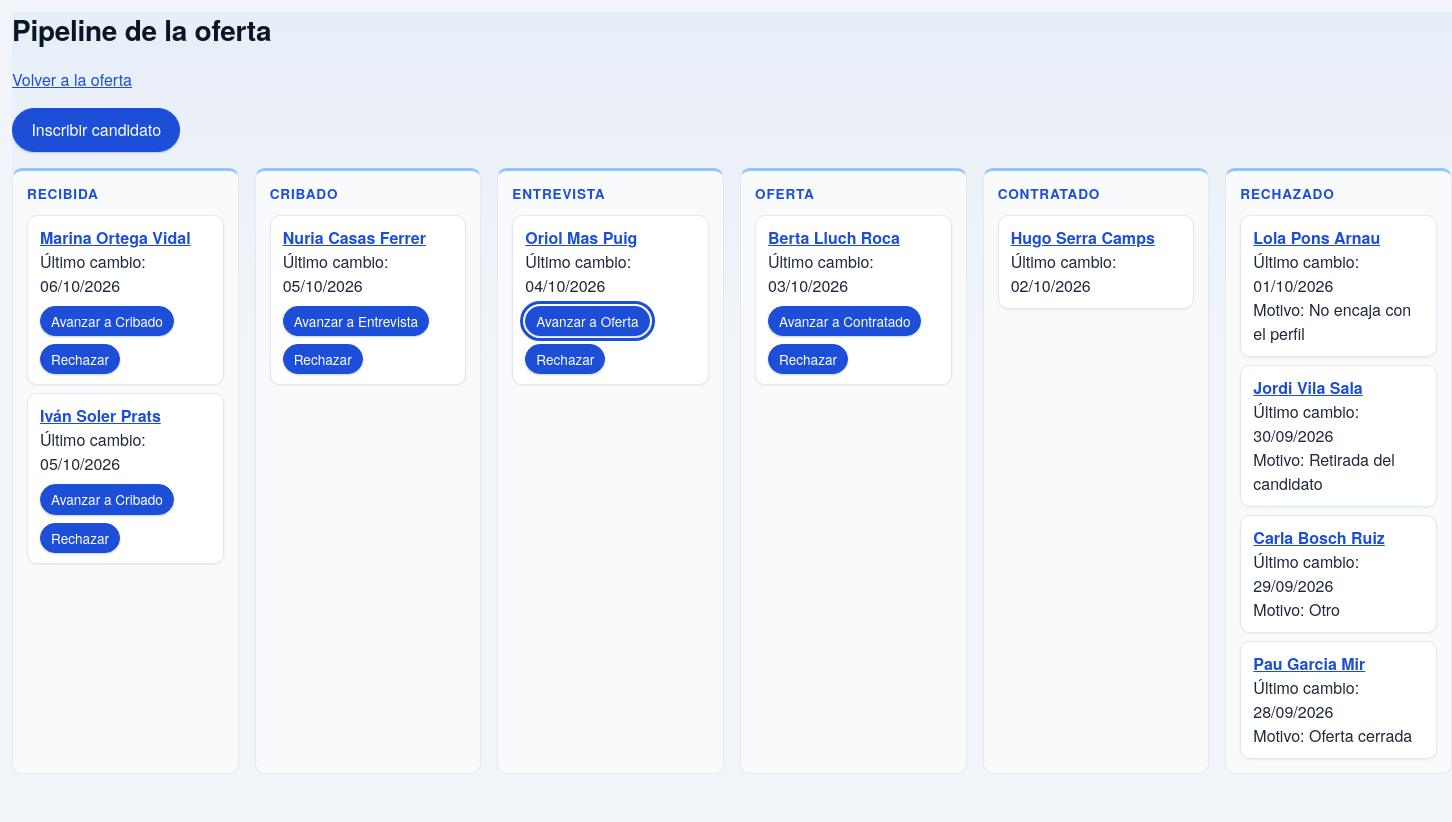
PipelineScreen: avanzar de etapa › EC-33 409 INVALID_TRANSITION → texto de DT-06, foco en la alerta y recarga
This screenshot has width=1452, height=822.
Step 1. Click the button named "Avanzar a Oferta: Oriol Mas Puig" → (587, 321), box [525,306,650,336]
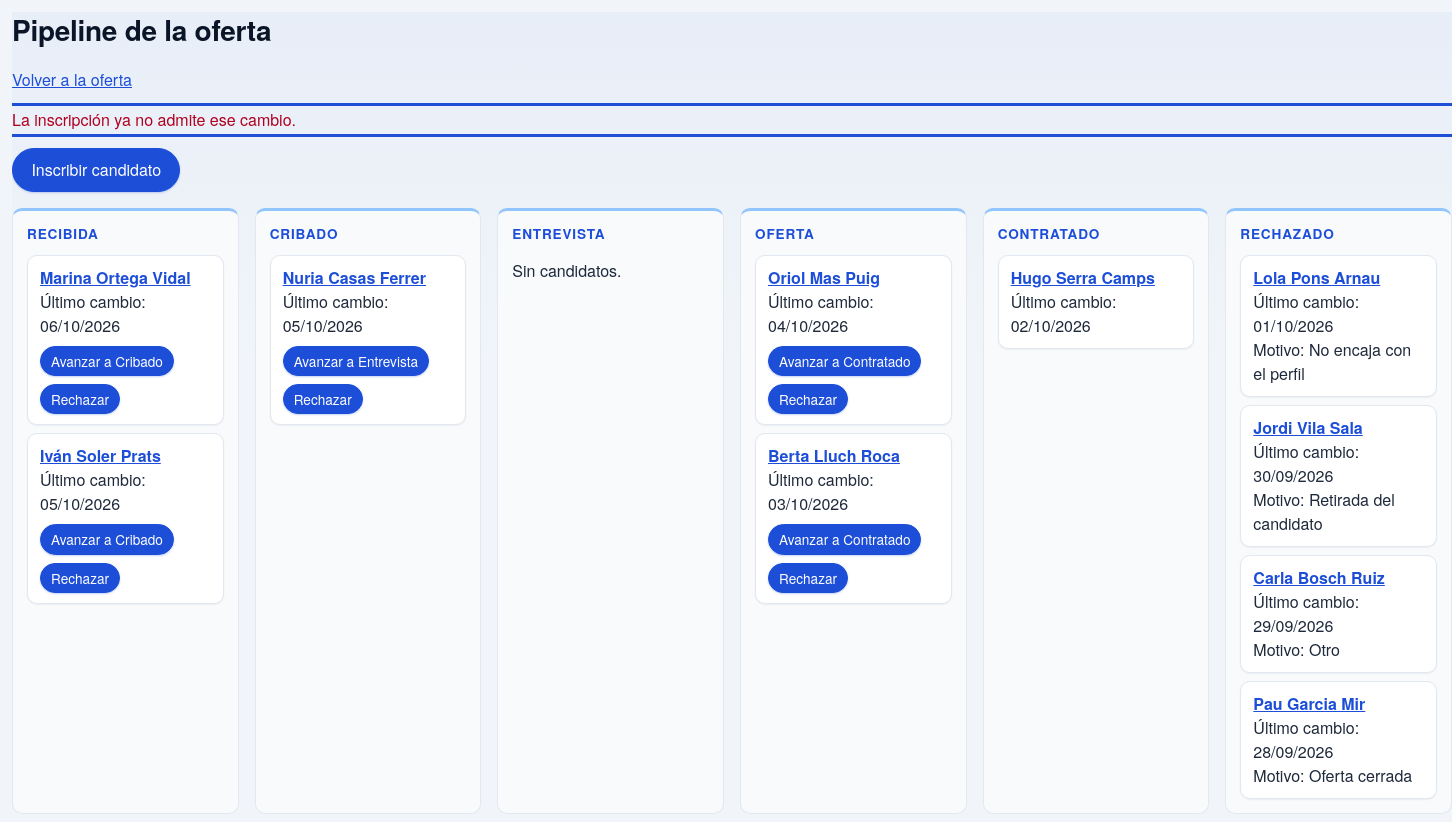
expect the link "Oriol Mas Puig" is shown: met, box [768,266,880,289]
expect the message reads "La inscripción ya no admite ese cambio.": met, box [12,108,296,131]
